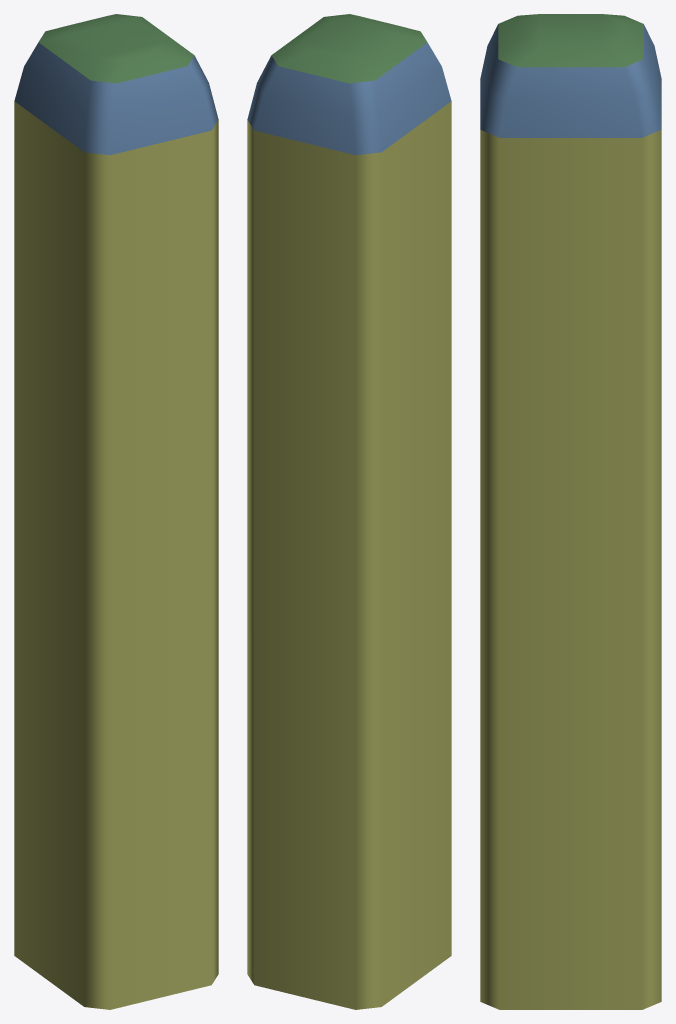
The model's file is Mini_Plat9.fbx.
3 renders of one model, left to right at view 1: azimuth 30°, elevation 25°; view 2: azimuth 150°, elevation 25°; view 3: azimuth 270°, elevation 25°, orthographic. The views are drawn at different scales.
Parts seen in each view (by area): view 1: Mini_Plat5, Wall8, Ground10; view 2: Mini_Plat5, Wall8, Ground10; view 3: Mini_Plat5, Wall8, Ground10.
Part boxes in pixels (x1,y1,x2,y2): Mini_Plat5: (14,101,218,1009); Wall8: (14,42,218,155); Ground10: (38,14,194,83); Mini_Plat5: (247,101,451,1009); Wall8: (247,42,451,155); Ground10: (271,14,427,83); Mini_Plat5: (480,130,661,1009); Wall8: (480,24,661,137); Ground10: (498,14,643,67).
Bounding box in the file's own units: 2037 × 13441 × 2336.
